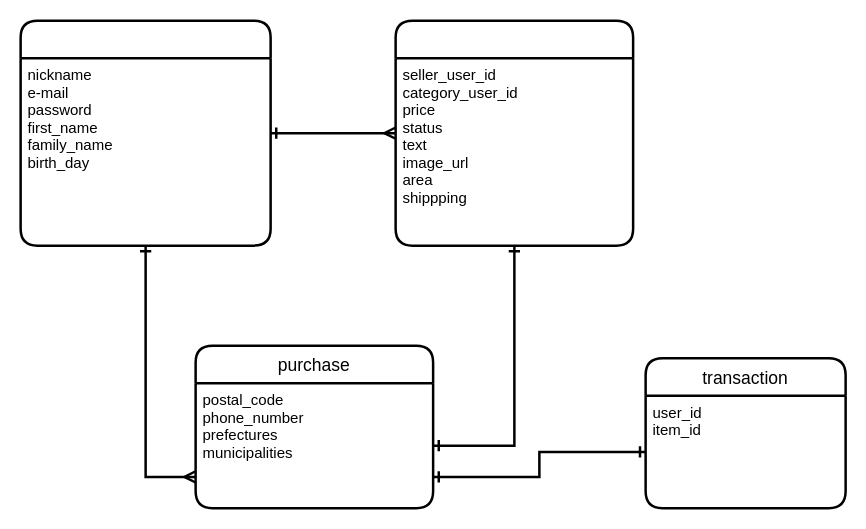
Image size: 866x529. Some labels were removed from this diagram. The shapes that lost their labels are listed below. From the top down, each one's box as (x1, y1, x2, y2) in pixels, then its label:
(19, 19, 271, 246): users
(394, 19, 634, 246): items
